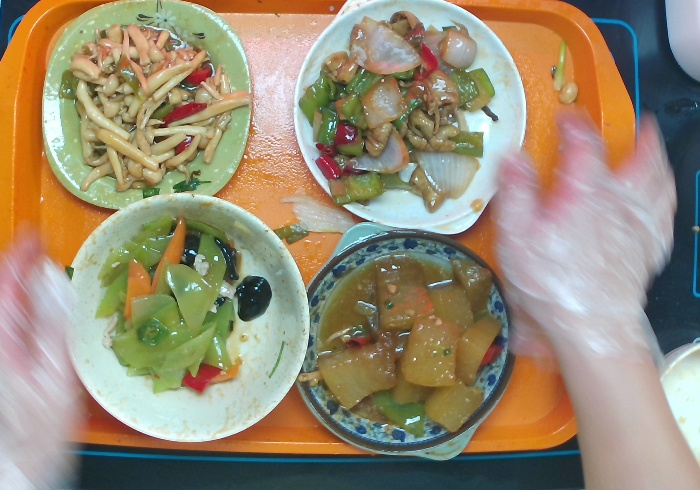NLDX-Bai_Se_Shuang_Er_Die: (286, 1, 537, 241)
NLDX-Bai_Se_Yuan_Wan: (56, 187, 314, 447)
NLDX-Lv_Hua_Fang_Die: (34, 1, 259, 212)
NLDX-Qing_Hua_Shuang_Er_Die: (286, 215, 522, 469)
